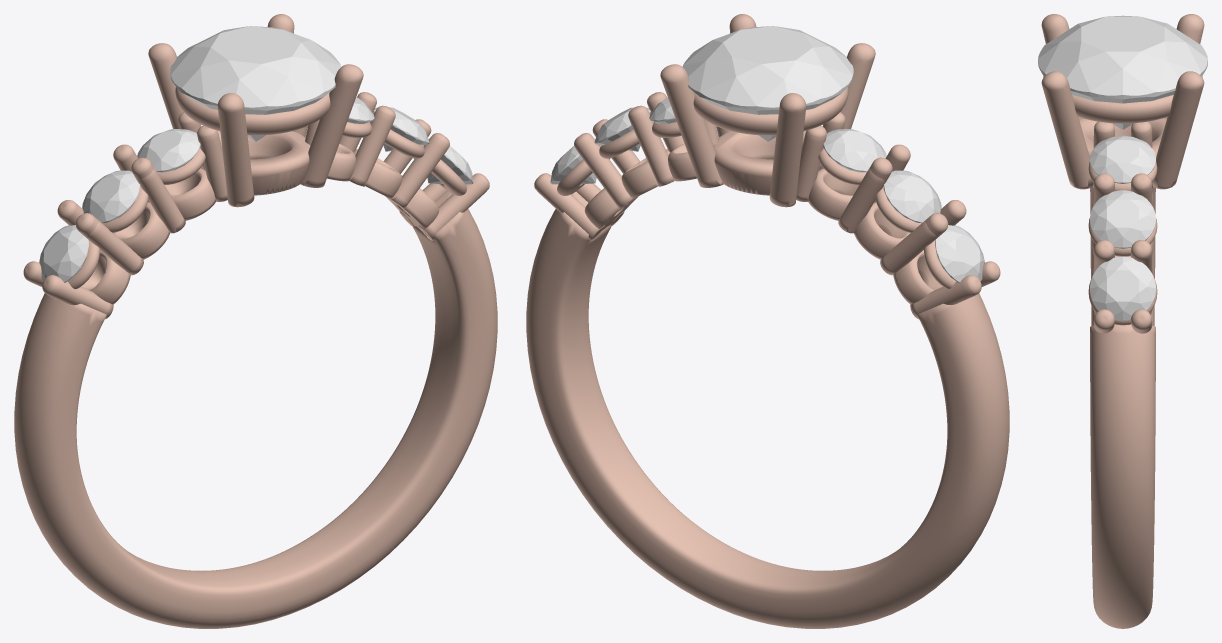
Rendered from diamond-round-rosegold-4prong-straightband-3stone.glb.
3 views of the same model, side by side, from view 1: azimuth 30°, elevation 25°; view 2: azimuth 150°, elevation 25°; view 3: azimuth 270°, elevation 25° (orthographic).
Parts seen in each view (by area): view 1: metal, stone, side, side.001, side.002, side.004, side.005; view 2: metal, stone, side, side.001, side.002, side.004, side.005; view 3: metal, stone, side.005, side.004, side.003.
Boxes of the visible parts, left/top/right/bottom form: metal: left=14, top=14, right=497, bottom=628; stone: left=170, top=26, right=341, bottom=141; side: left=82, top=170, right=140, bottom=223; side.001: left=39, top=225, right=89, bottom=282; side.002: left=137, top=129, right=200, bottom=172; side.004: left=373, top=107, right=429, bottom=151; side.005: left=423, top=138, right=473, bottom=184; metal: left=526, top=14, right=1009, bottom=628; stone: left=682, top=26, right=853, bottom=141; side: left=883, top=170, right=941, bottom=223; side.001: left=935, top=225, right=984, bottom=282; side.002: left=823, top=129, right=886, bottom=172; side.004: left=594, top=107, right=650, bottom=151; side.005: left=550, top=138, right=600, bottom=184; metal: left=1041, top=14, right=1204, bottom=628; stone: left=1038, top=15, right=1207, bottom=129; side.005: left=1090, top=256, right=1155, bottom=320; side.004: left=1090, top=190, right=1155, bottom=248; side.003: left=1090, top=135, right=1155, bottom=183.
Size of the model in its own units: 20.49 by 23.81 by 6.44.
